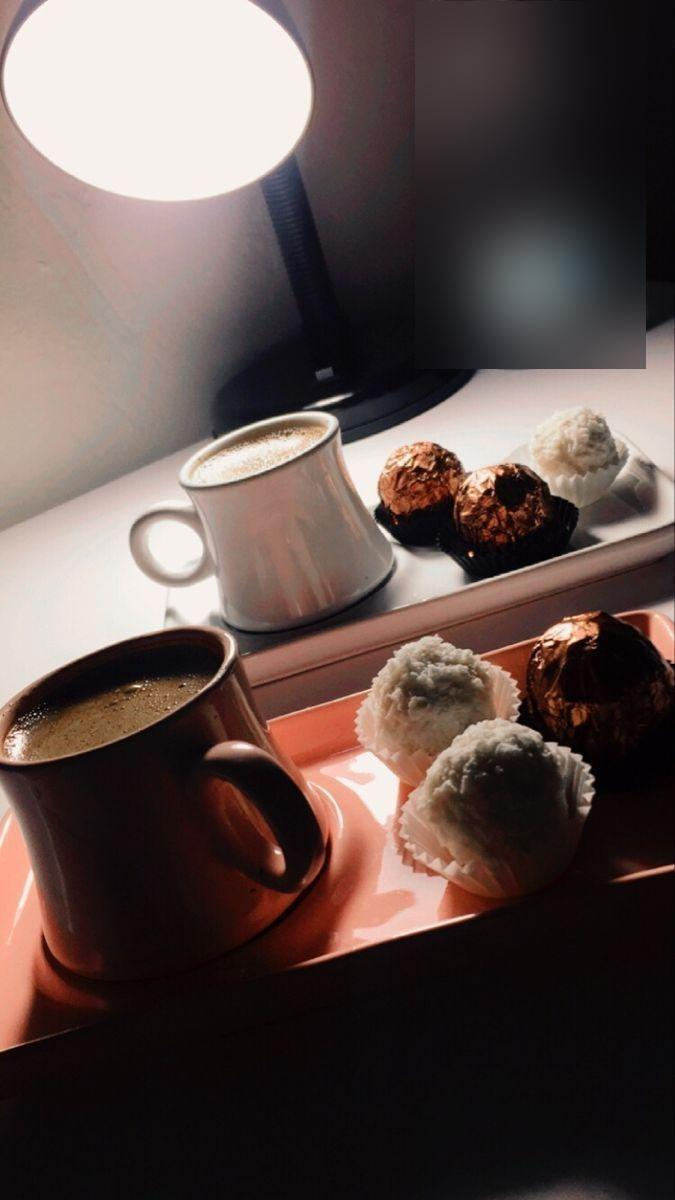cup-handle: (1, 623, 332, 984), (127, 408, 398, 632)
